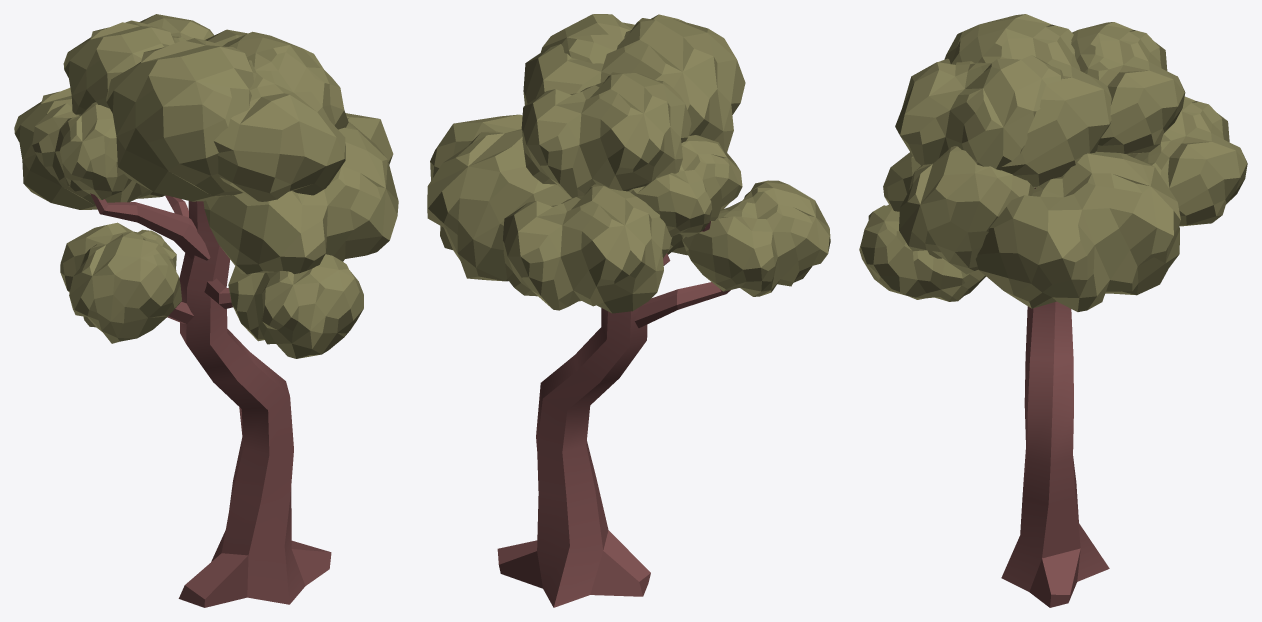
File: Tree 2-Cebu.fbx
The picture shows the model from 3 angles, left to right: view 1: azimuth 30°, elevation 25°; view 2: azimuth 150°, elevation 25°; view 3: azimuth 270°, elevation 25°; orthographic projection. The views are drawn at different scales.
Visible parts, largest first — view 1: sweep23; view 2: sweep23; view 3: sweep23.
Boxes of the visible parts, x1=… form: sweep23: x1=14, y1=14, x2=398, y2=607; sweep23: x1=427, y1=14, x2=830, y2=607; sweep23: x1=859, y1=14, x2=1247, y2=607.
Size of the model in its own units: 303 by 466 by 315.
